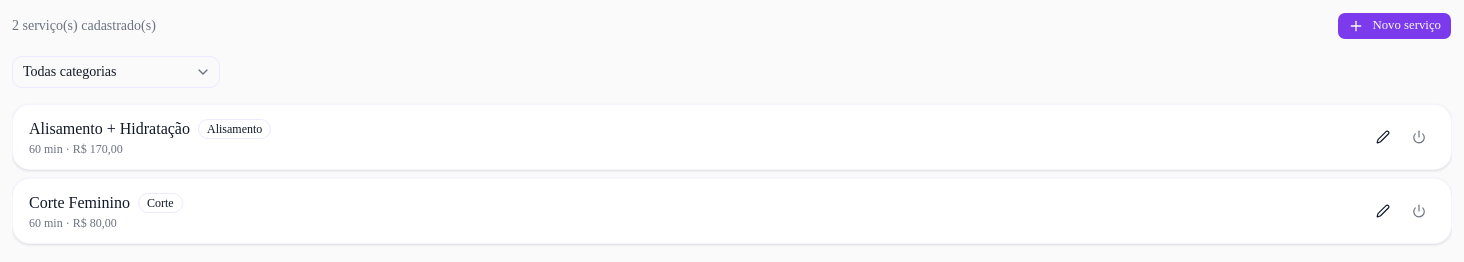
Test: ServiceCatalog › mostra mensagem de vazio quando a categoria filtrada não tem serviços
This screenshot has width=1464, height=262.
Click the dropdown.
click(116, 72)  # box [12, 56, 220, 88]
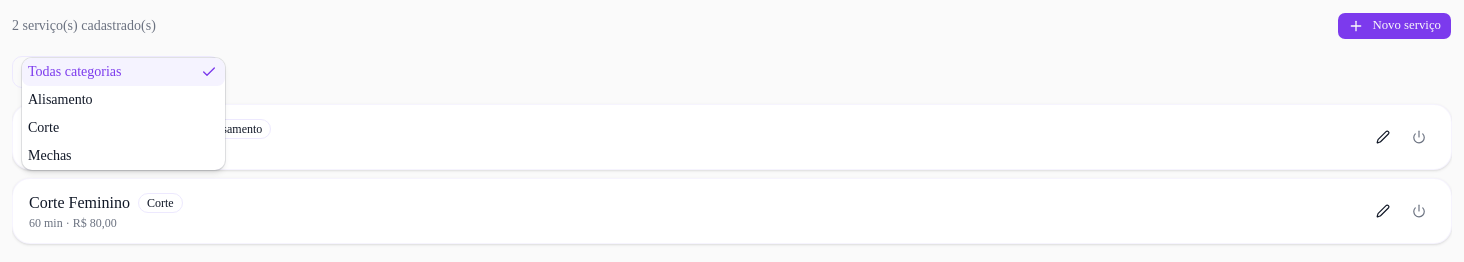
Click the option "Mechas".
click(50, 156)  # box [28, 148, 72, 163]
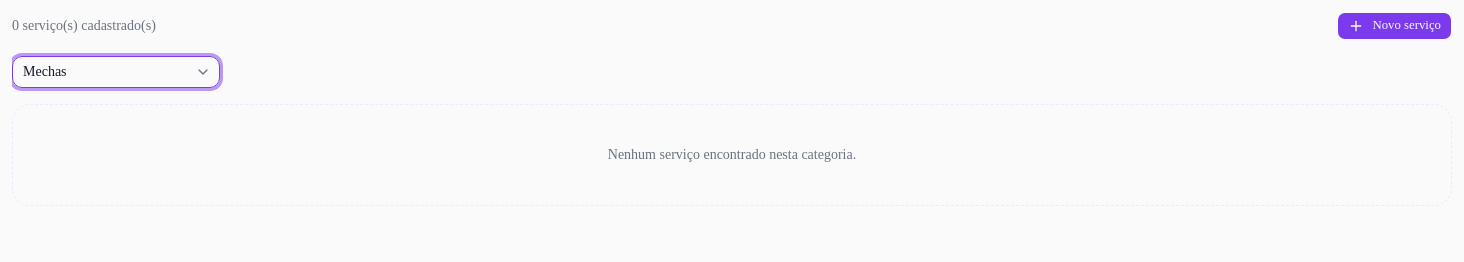
Result: the text "Nenhum serviço encontrado nesta categoria." is shown at [608, 147, 856, 162]
